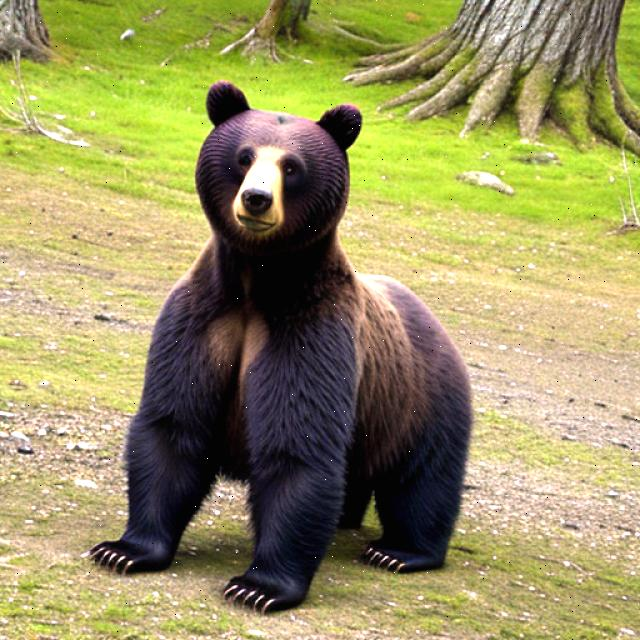bear: (72, 86, 470, 582)
